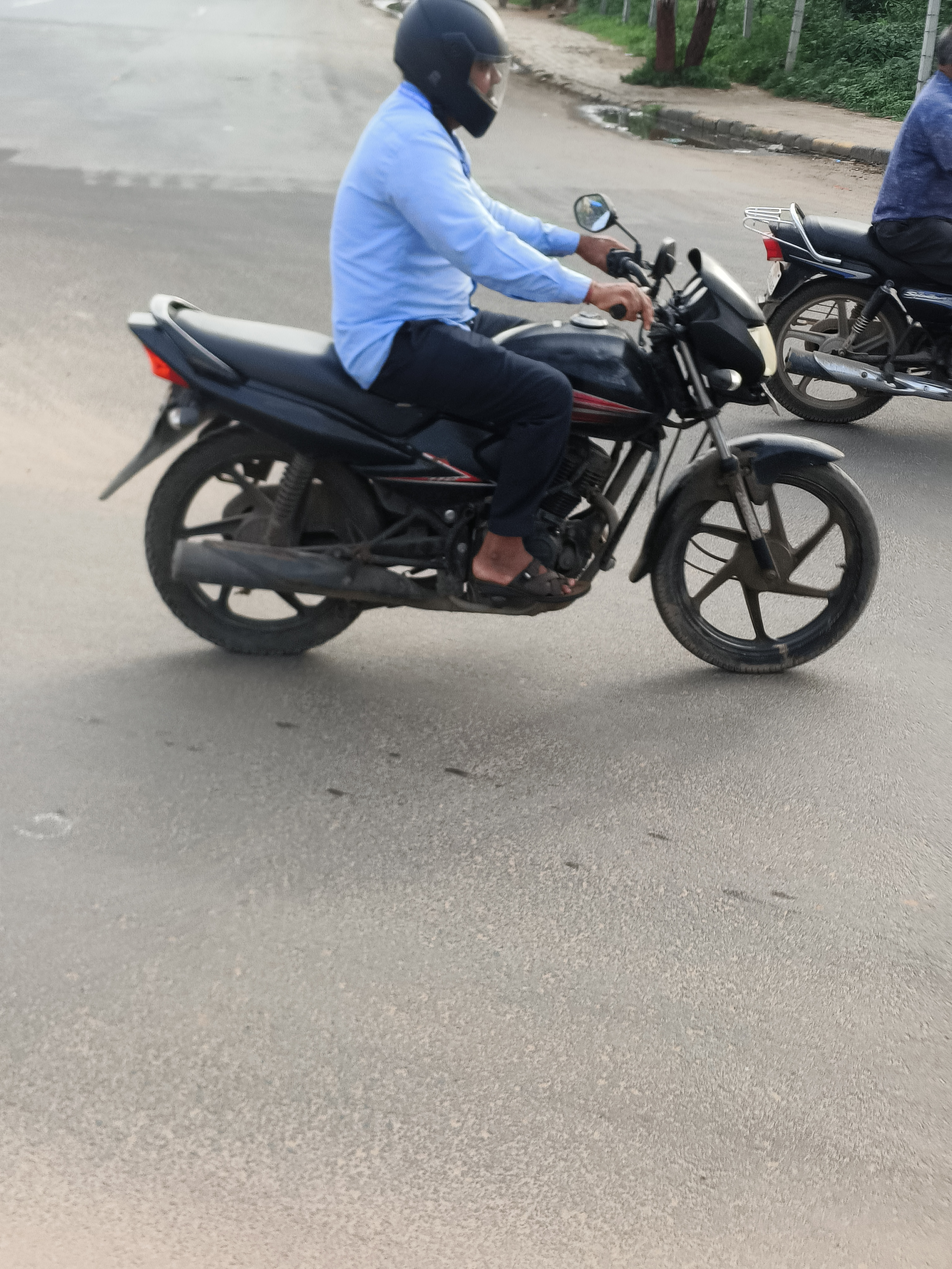BikeWithRider: (83, 0, 901, 683)
Helmet: (374, 0, 526, 141)
